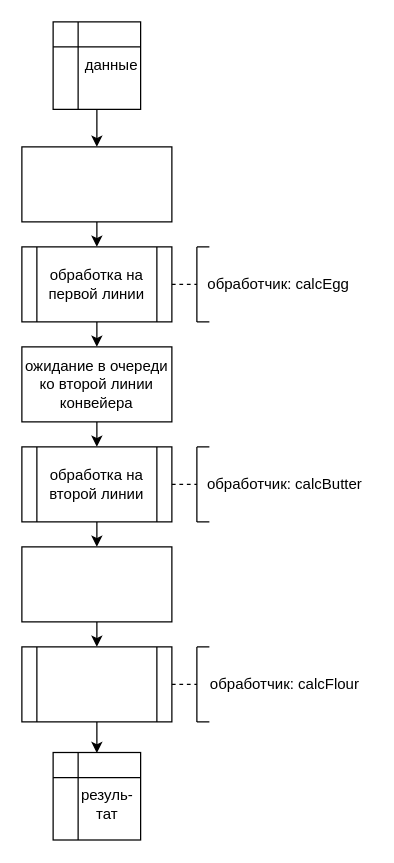
This 394x863 diagram has some shape labels left out. The shapes that lost their labels are listed below. From the top down, each one's box as (x1, y1, x2, y2) in pixels, then its label:
(21, 146, 172, 222): ожидание в очереди к первой линии конвейера
(21, 546, 172, 622): ожидание в очереди к третьей линии конвейера
(21, 646, 172, 722): обработка на третьей линии
